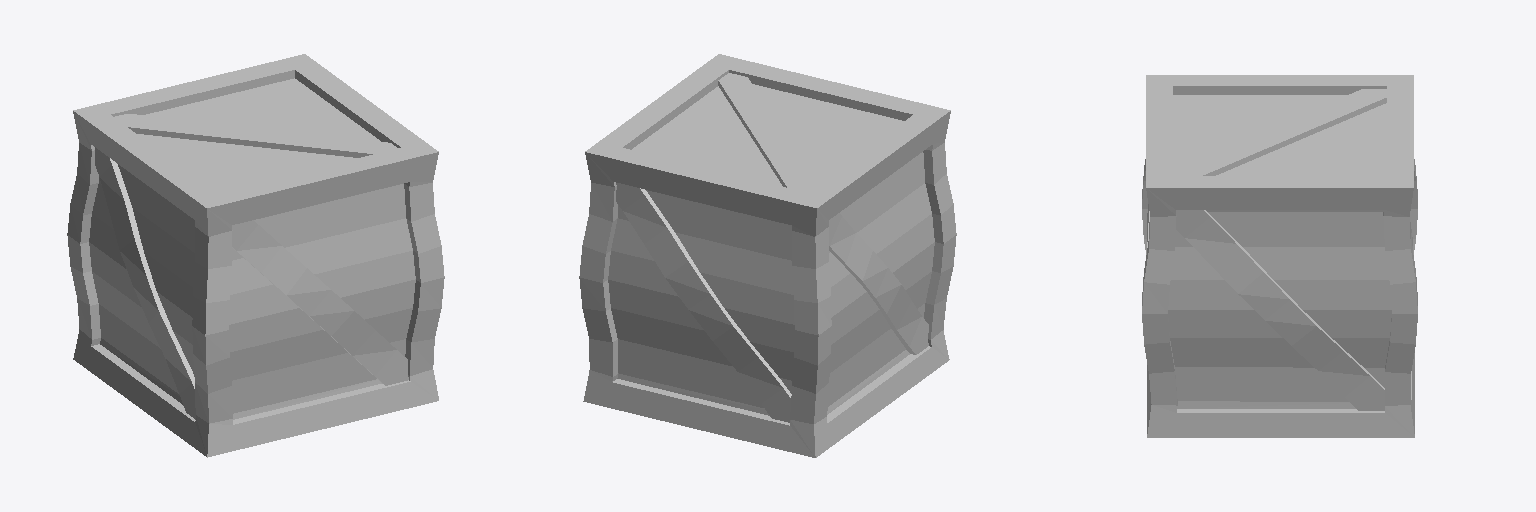
Rendered from Wooden Crate.obj.
3 views of the same model, side by side, from view 1: azimuth 30°, elevation 25°; view 2: azimuth 150°, elevation 25°; view 3: azimuth 270°, elevation 25° (orthographic).
Visible parts, largest first — view 1: RR_Crate_001, RR_CratePanel_004, RR_CratePanel_003; view 2: RR_Crate_001, RR_CratePanel_002, RR_CratePanel_003; view 3: RR_Crate_001, RR_CratePanel_001.
Boxes of the visible parts, <box> form: RR_Crate_001: <box>67,54,444,457</box>; RR_CratePanel_004: <box>232,220,408,385</box>; RR_CratePanel_003: <box>95,147,195,419</box>; RR_Crate_001: <box>579,54,956,457</box>; RR_CratePanel_002: <box>616,183,791,422</box>; RR_CratePanel_003: <box>829,213,928,354</box>; RR_Crate_001: <box>1142,75,1417,437</box>; RR_CratePanel_001: <box>1176,210,1384,410</box>.
Size of the model in its own units: 79.01 by 78.74 by 79.01.